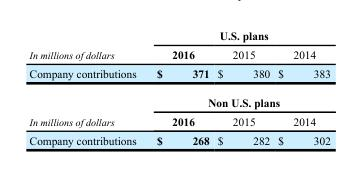table: (28, 28, 329, 146)
table column: (28, 28, 145, 146), (145, 28, 212, 146), (212, 28, 273, 146), (273, 28, 329, 146)
table column header: (28, 28, 329, 63)
table row: (28, 63, 329, 87), (28, 87, 329, 111), (28, 44, 329, 63), (28, 111, 329, 130), (28, 28, 329, 44), (28, 130, 329, 146)
table spanning cell: (145, 87, 329, 111), (28, 28, 145, 63), (145, 28, 329, 44)
